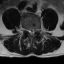CCS_normal: (30, 26, 32, 38)
LFS_normal: (35, 26, 37, 34)
LLS_normal: (32, 26, 35, 36)
RFS_stenosis: (25, 26, 27, 33)
RLS_normal: (27, 26, 30, 36)
